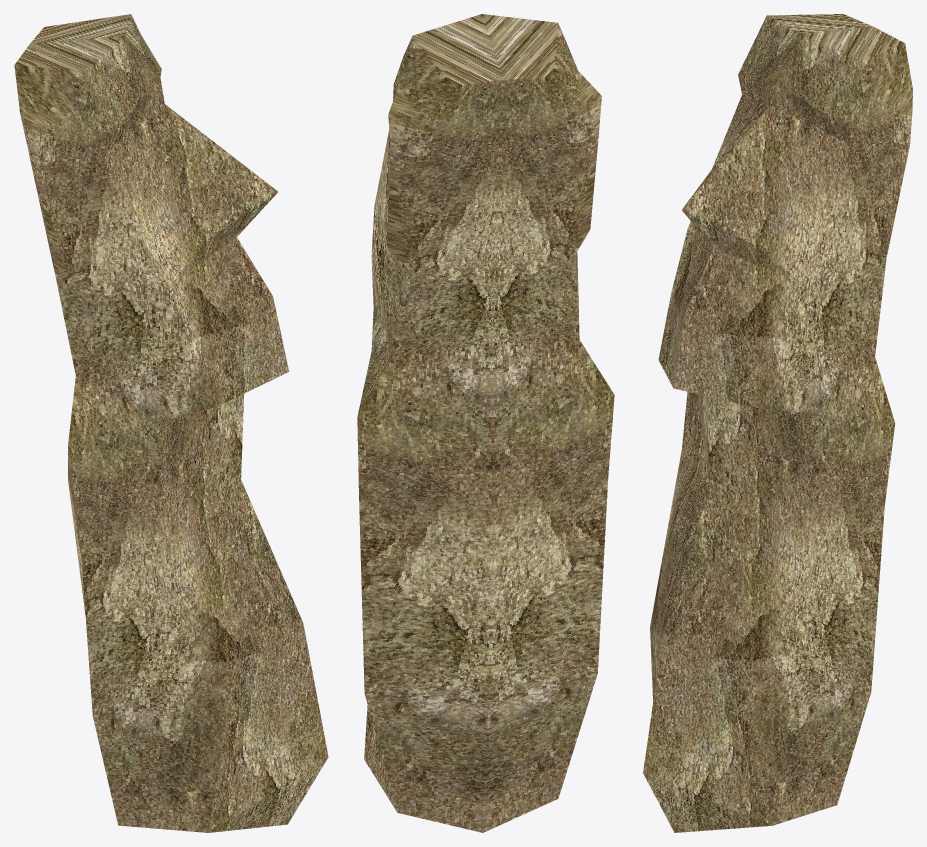
File: stage-east-p7-128.glb
3 renders of one model, left to right at view 1: azimuth 30°, elevation 25°; view 2: azimuth 150°, elevation 25°; view 3: azimuth 270°, elevation 25°, orthographic. The views are drawn at different scales.
Bounding box in the file's own units: 8.37 × 26.82 × 8.66.
1 material, 1 textured.
